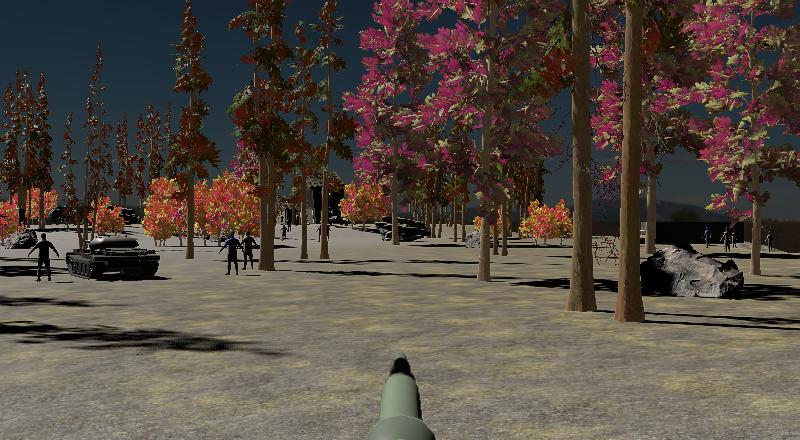Human: (218, 230, 245, 276)
Tank: (66, 230, 162, 281)
